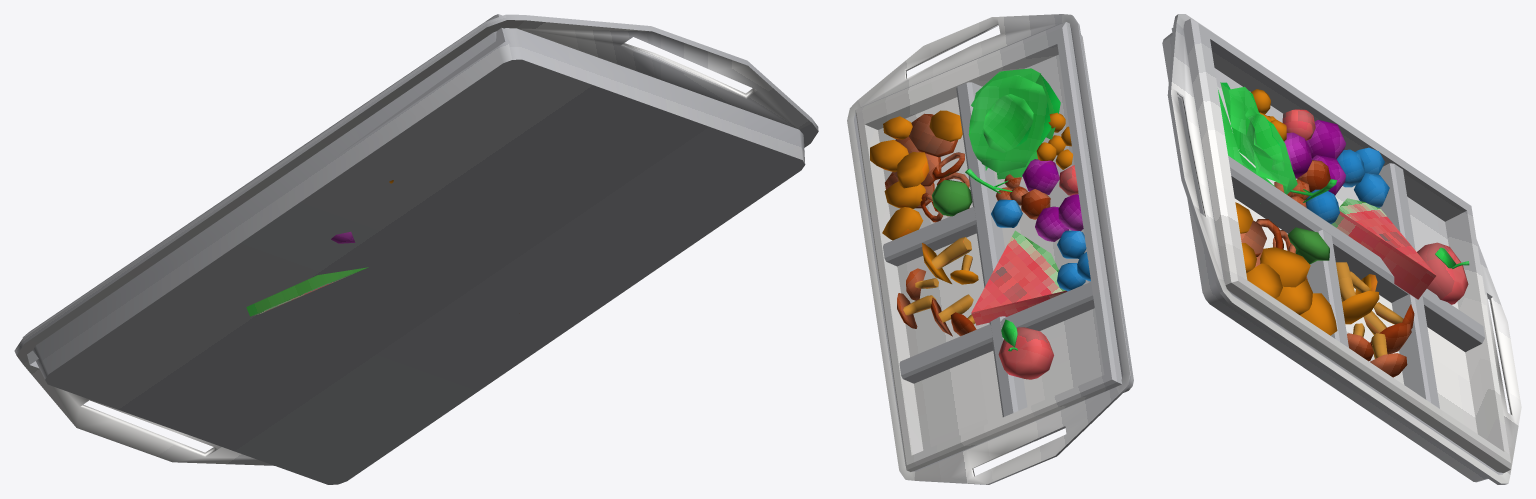
The model's file is H_MessTray_Fruit.fbx.
3 views of the same model, side by side, from view 1: azimuth 30°, elevation 25°; view 2: azimuth 150°, elevation 25°; view 3: azimuth 270°, elevation 25° (orthographic). The views are drawn at different scales.
Parts seen in each view (by area): view 1: MessTray.001; view 2: MessTray.001; view 3: MessTray.001.
Boxes of the visible parts, left/top/right/bottom form: MessTray.001: left=14, top=14, right=818, bottom=484; MessTray.001: left=847, top=14, right=1133, bottom=484; MessTray.001: left=1162, top=14, right=1521, bottom=484.
Size of the model in its own units: 71.42 by 67.8 by 48.63.
